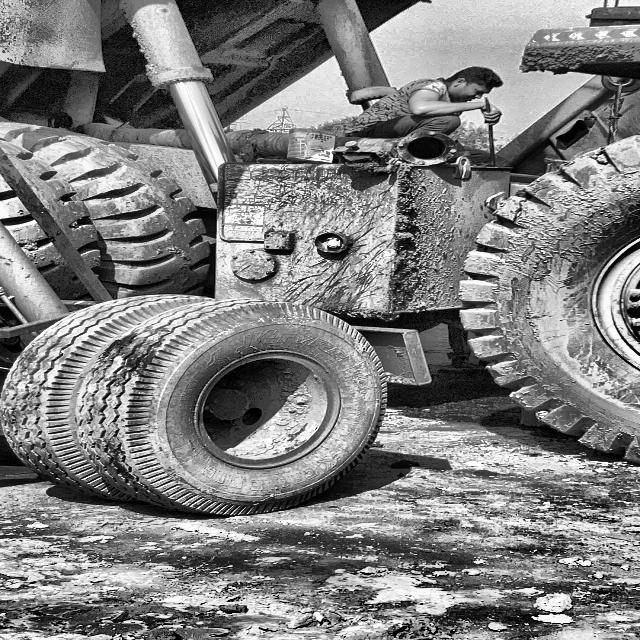dump_truck: (0, 0, 640, 487)
